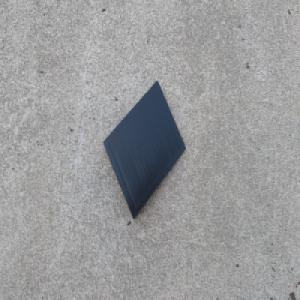PlasticPart: (103, 79, 187, 220)
